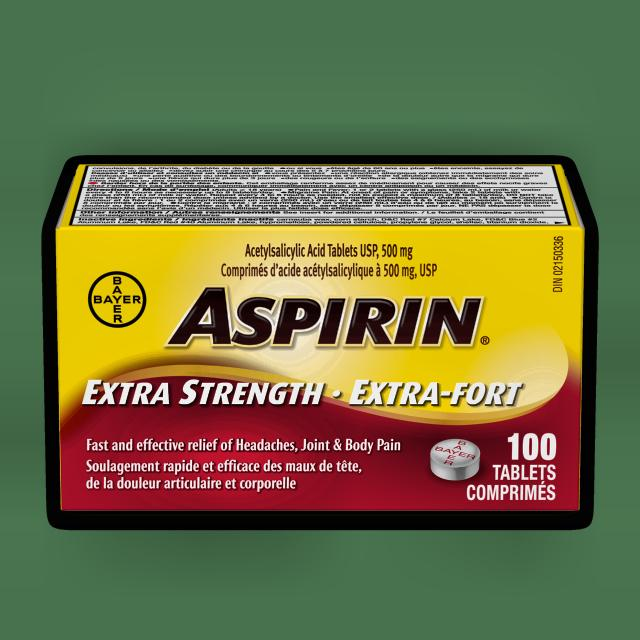Aspirin: (57, 225, 580, 511)
